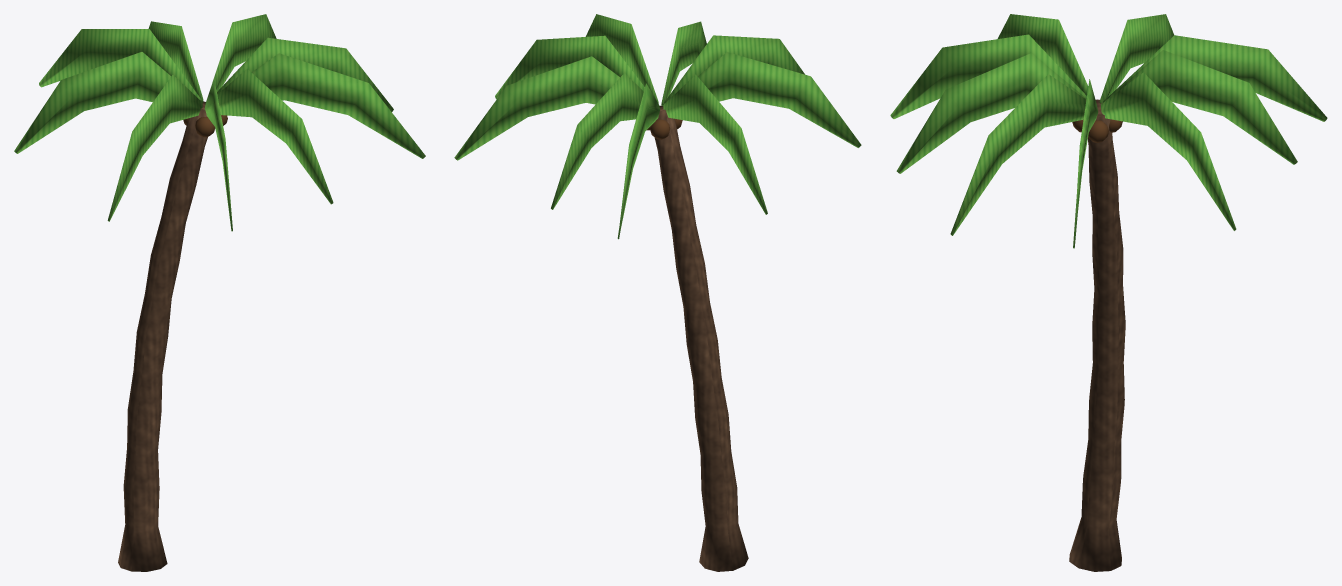
File: Tree_Palm.fbx
The picture shows the model from 3 angles, left to right: view 1: azimuth 30°, elevation 25°; view 2: azimuth 150°, elevation 25°; view 3: azimuth 270°, elevation 25°; orthographic projection. The views are drawn at different scales.
Visible parts, largest first — view 1: Tree_Palm.001; view 2: Tree_Palm.001; view 3: Tree_Palm.001.
Part boxes in pixels (box(x1,y1,x2,y2)): Tree_Palm.001: box(14, 14, 425, 571); Tree_Palm.001: box(454, 14, 861, 571); Tree_Palm.001: box(890, 14, 1327, 571).
Bounding box in the file's own units: 4.67 × 6.79 × 4.9.
